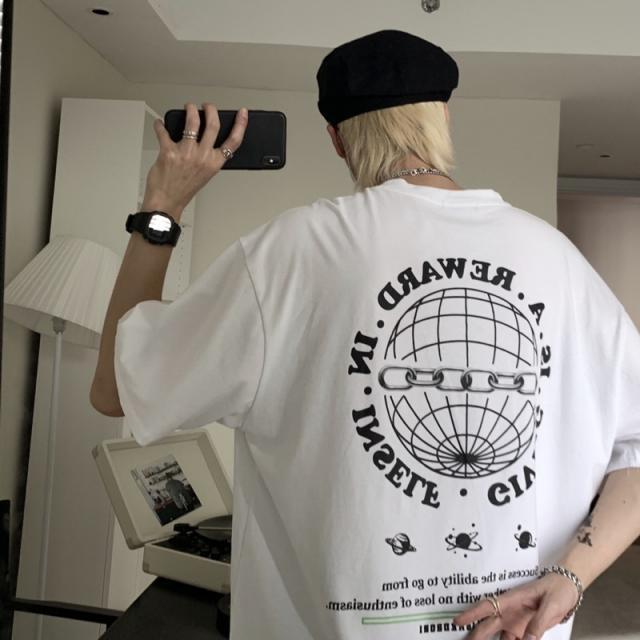Shirt: (115, 176, 640, 640)
